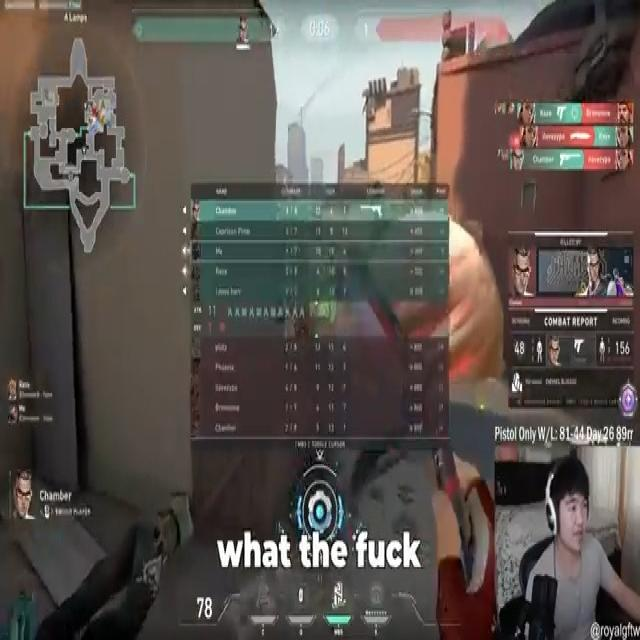smoke: (449, 214, 502, 382)
